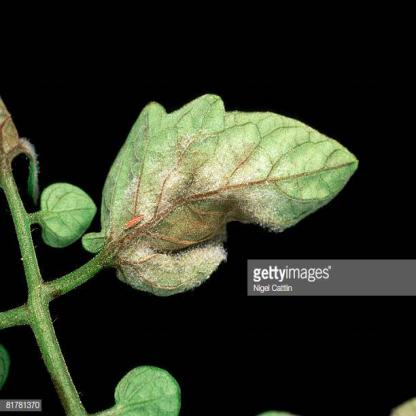tomato leaf late blight: (92, 93, 362, 303)
